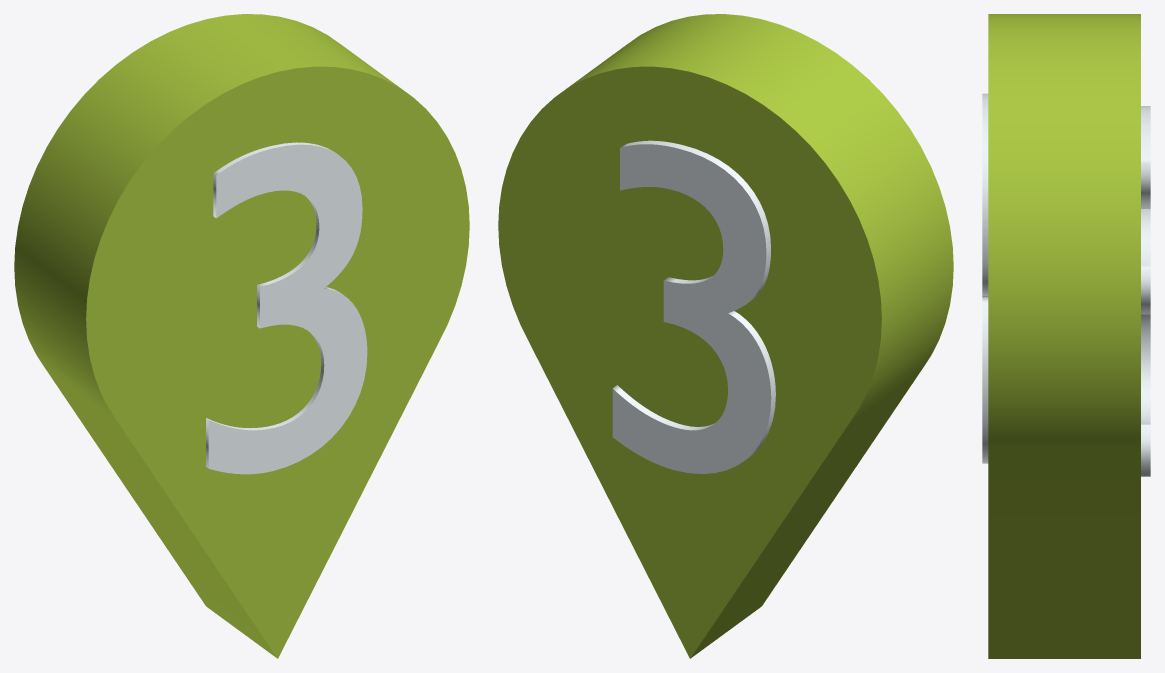
File: kentiku_point_a.glb
3 views of the same model, side by side, from view 1: azimuth 30°, elevation 25°; view 2: azimuth 150°, elevation 25°; view 3: azimuth 270°, elevation 25° (orthographic). The views are drawn at different scales.
Parts seen in each view (by area): view 1: 円.002, テキスト.002; view 2: 円.002, テキスト.004; view 3: 円.002, テキスト.004, テキスト.002.
Boxes of the visible parts, bbox=[...] form: 円.002: bbox=[14, 14, 469, 658]; テキスト.002: bbox=[206, 142, 367, 474]; 円.002: bbox=[498, 14, 953, 658]; テキスト.004: bbox=[612, 140, 775, 473]; 円.002: bbox=[988, 14, 1140, 658]; テキスト.004: bbox=[1141, 106, 1150, 476]; テキスト.002: bbox=[982, 93, 988, 463].
Bounding box in the file's own units: 2 × 2.92 × 0.7172.
Materials: 3 (3 with a texture image).
